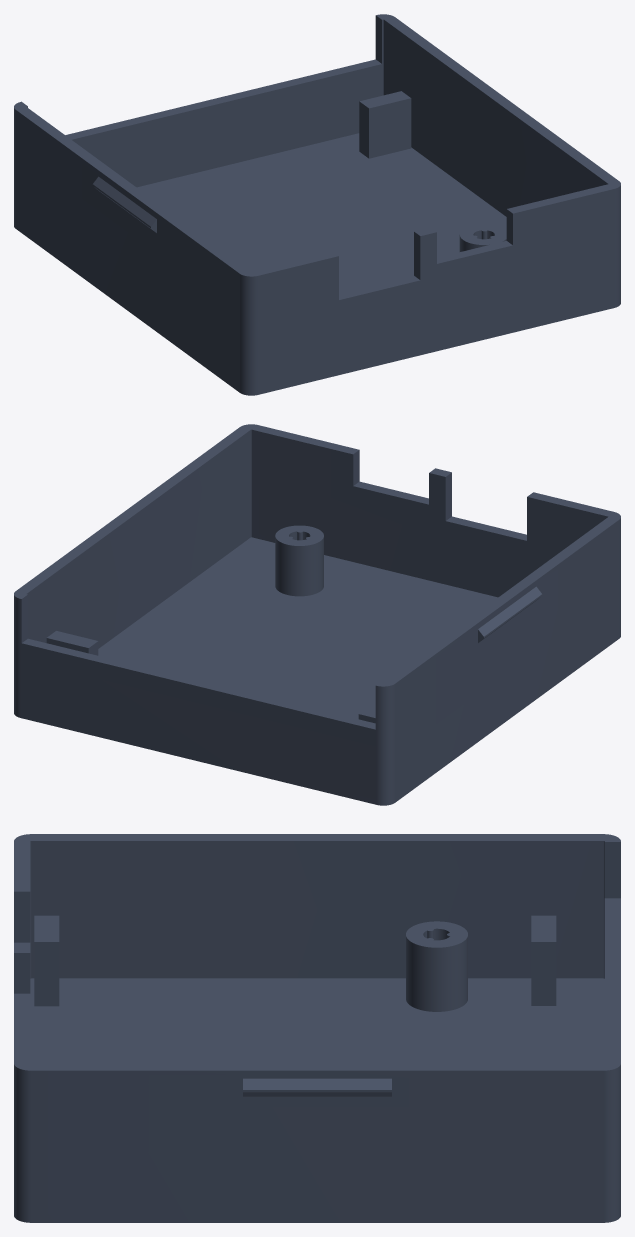
File: lower-shell.glb
3 views of the same model, one above another, from view 1: azimuth 30°, elevation 25°; view 2: azimuth 150°, elevation 25°; view 3: azimuth 270°, elevation 25° (orthographic). The views are drawn at different scales.
Parts seen in each view (by area): view 1: lower-shell; view 2: lower-shell; view 3: lower-shell.
Part boxes in pixels (x1,y1,x2,y2): lower-shell: (14,14,620,395); lower-shell: (14,424,620,805); lower-shell: (14,834,620,1222).
Bounding box in the file's own units: 0.0464 × 0.0135 × 0.0488.
